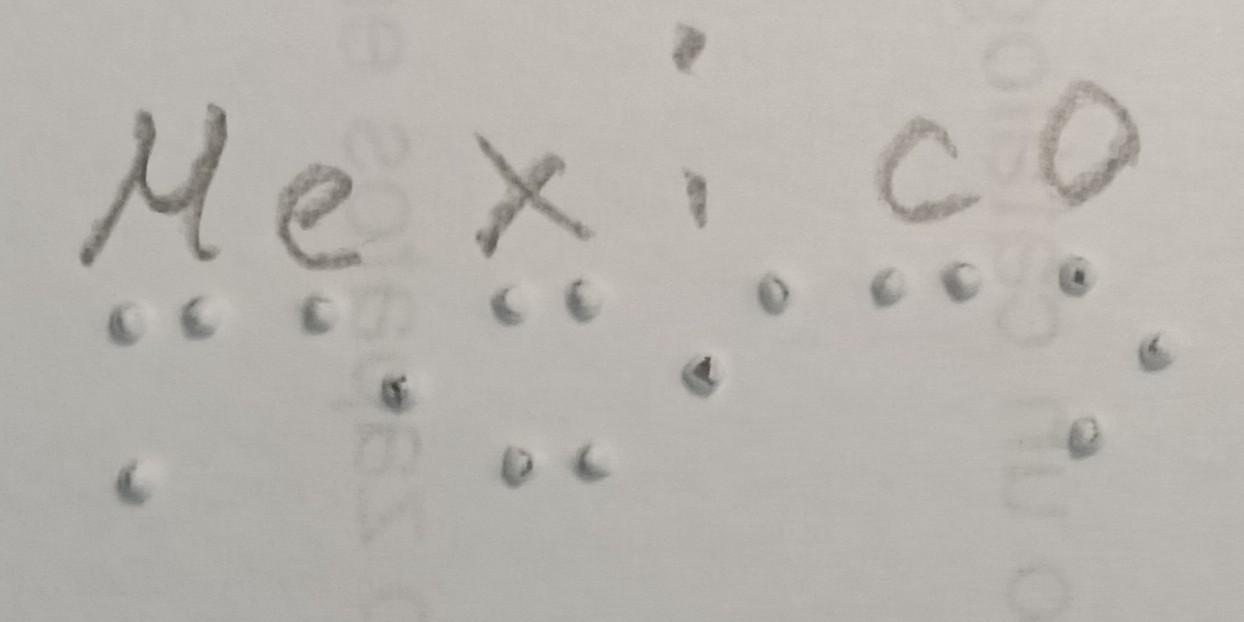c: (836, 254, 1007, 337)
e: (270, 286, 423, 446)
i: (671, 263, 810, 407)
m: (81, 283, 256, 513)
o: (1031, 247, 1183, 461)
x: (456, 283, 654, 496)
